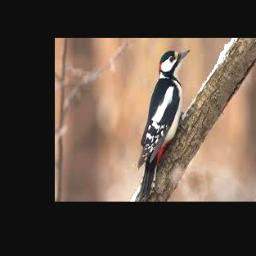Woodpecker: (138, 49, 191, 202)
